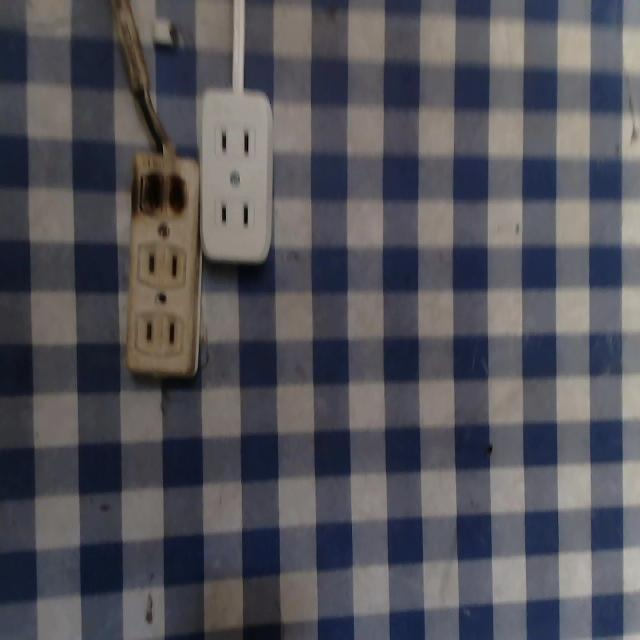-: (126, 161, 200, 227)
